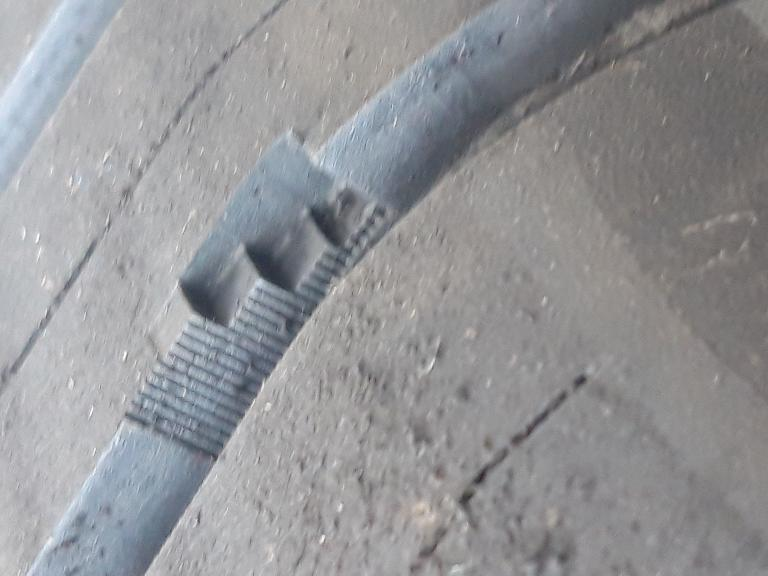temoin:75: (137, 115, 413, 396)
